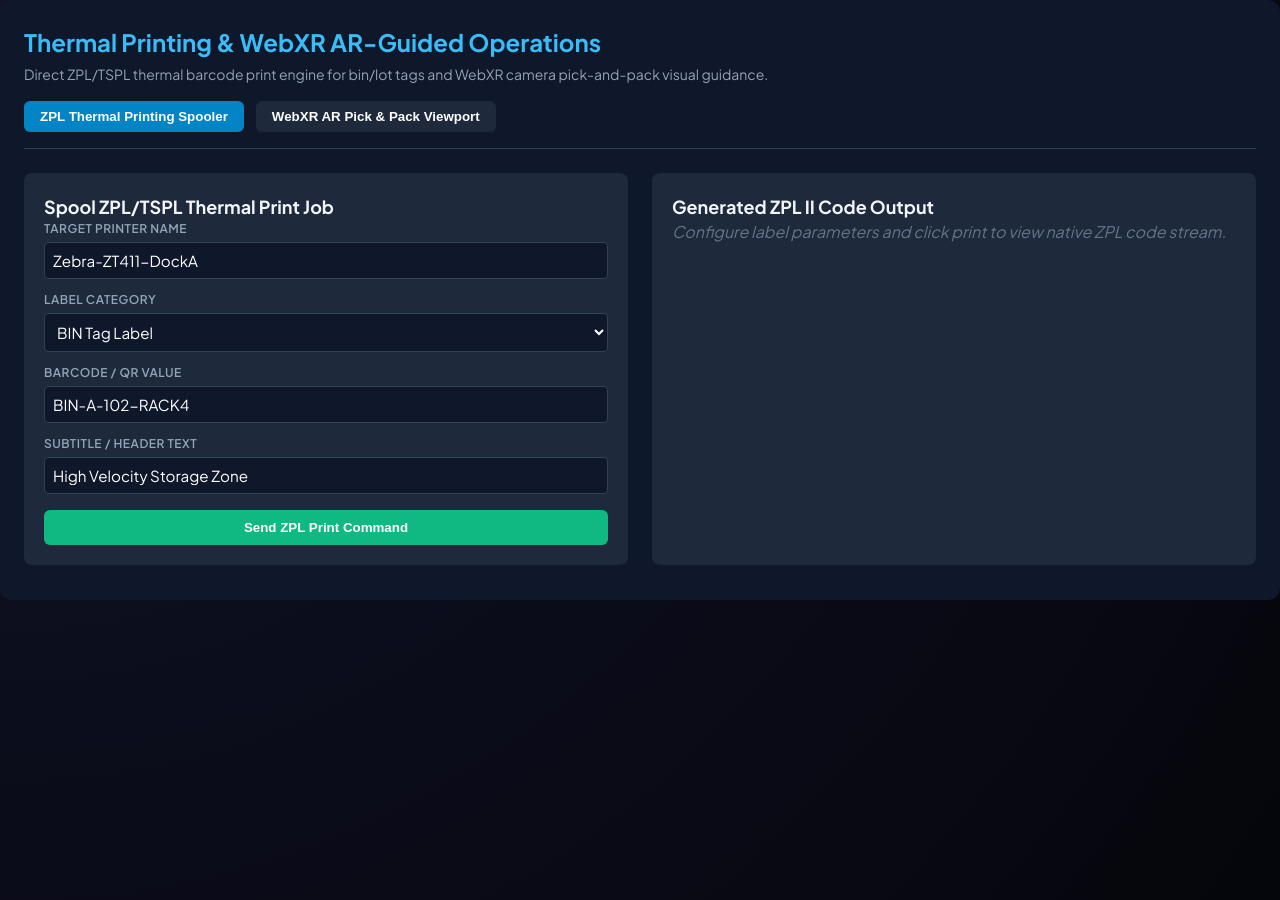
it: ThermalPrintingArPanel › switches to AR tab when AR button is clicked
The width and height of the screenshot is (1280, 900).
Click the button "WebXR AR Pick & Pack Viewport" at (376, 116), box top-left (256, 101), bottom-right (496, 132)
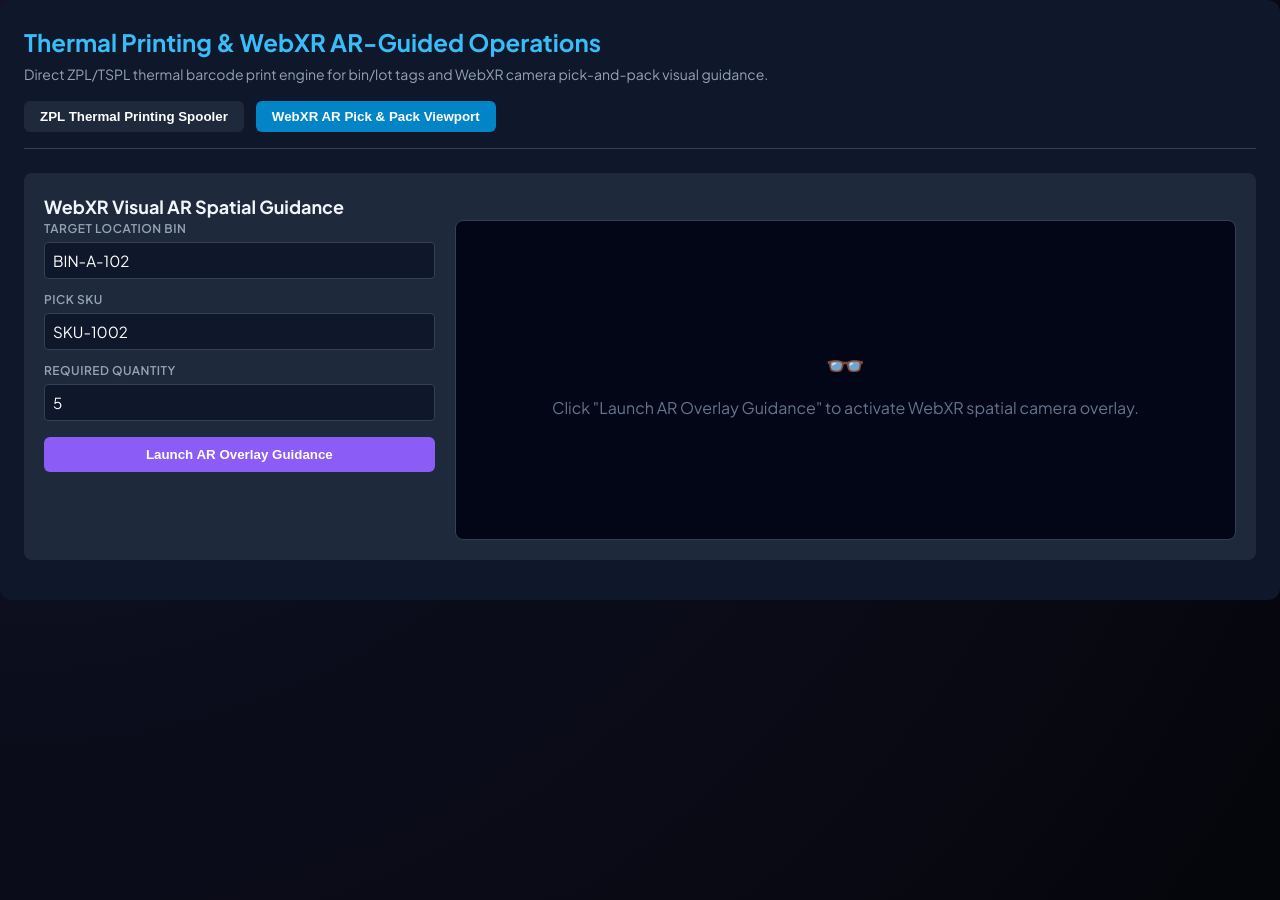
Result: the heading "WebXR Visual AR Spatial Guidance" is shown at top-left (44, 195), bottom-right (344, 218)
Result: the button "Launch AR Overlay Guidance" is shown at top-left (44, 437), bottom-right (435, 472)
